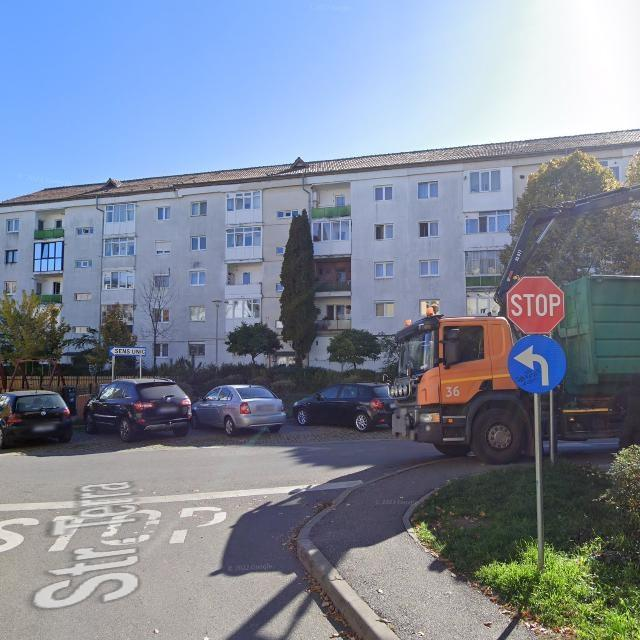prio_stop: (502, 276, 567, 333)
